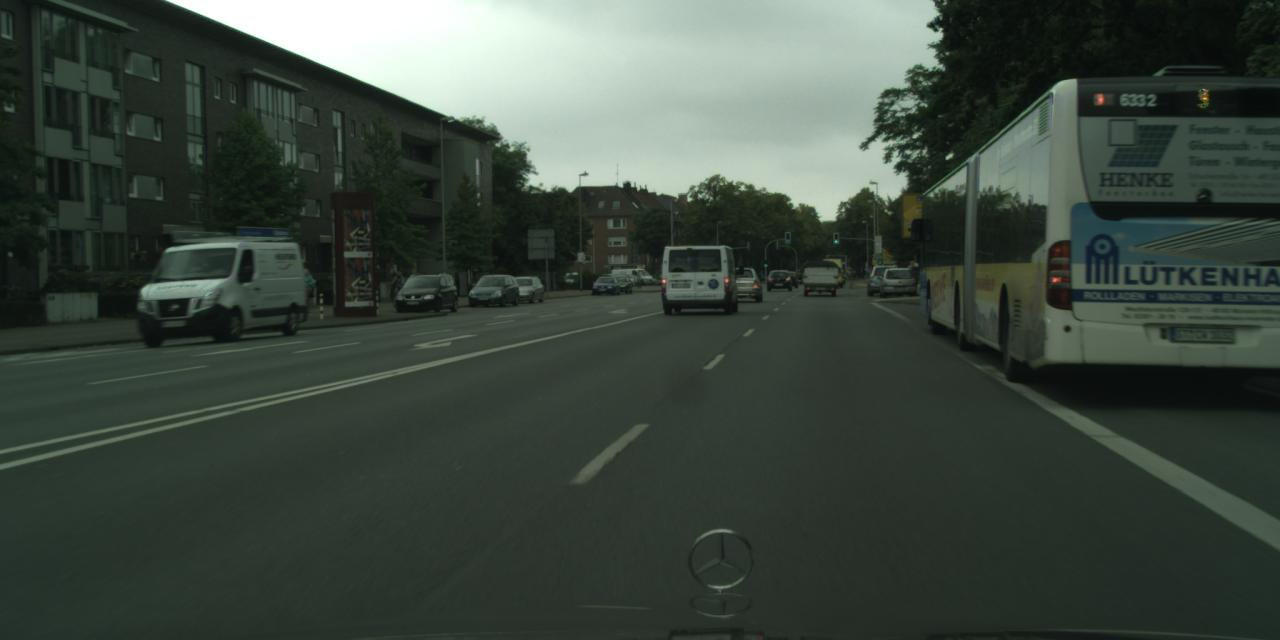ped: (298, 268, 314, 308), (394, 272, 404, 297), (911, 260, 920, 282), (636, 273, 642, 291)
